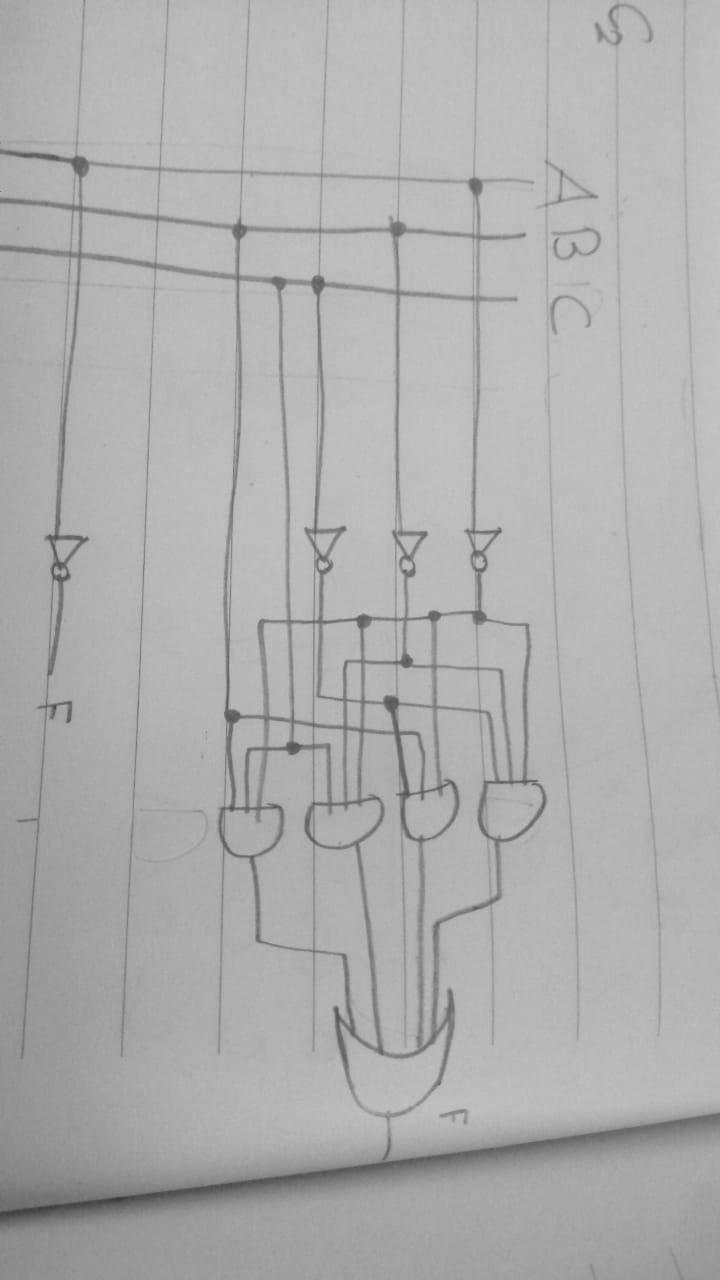AND: (475, 771, 568, 852), (206, 794, 291, 866), (300, 792, 387, 861), (391, 784, 464, 846)
NOT: (40, 515, 102, 594), (385, 520, 440, 584), (294, 522, 358, 576), (459, 522, 513, 576)
OR: (319, 991, 484, 1125)
